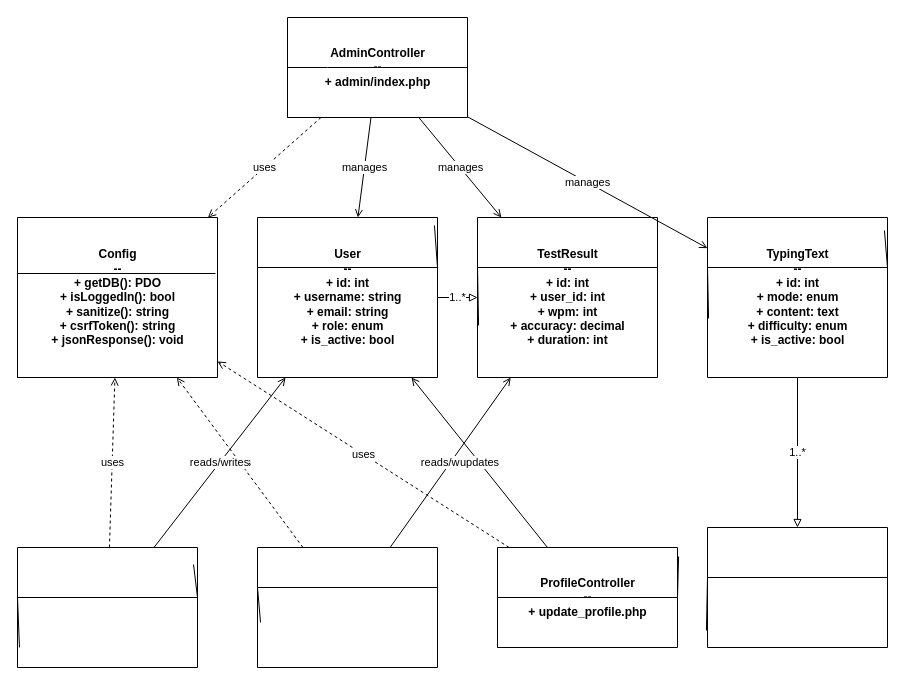
The diagram is 906 pixels wide and 685 high, and some of its shapes have lost their labels. The box of each missing label's shape, as (x1, y1, x2, y2) in pixels:
AuthController -- + login_action.php + signup_action.php + logout.php: (16, 546, 198, 668)
DailyChallenge -- + id: int + text_id: int + challenge_date: date: (706, 526, 888, 648)
TestController -- + save_result.php + get_history.php + clear_history.php: (256, 546, 438, 668)
